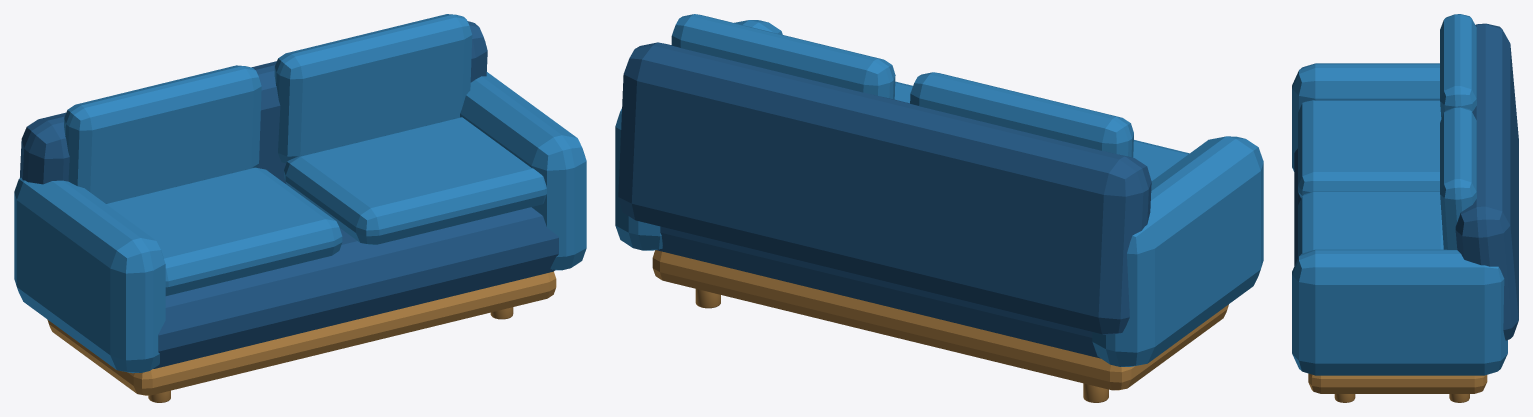
The model's file is timbas-blue-sofa.glb.
The picture shows the model from 3 angles, left to right: view 1: azimuth 30°, elevation 25°; view 2: azimuth 150°, elevation 25°; view 3: azimuth 270°, elevation 25°; orthographic projection. The views are drawn at different scales.
Parts seen in each view (by area): view 1: sofa · Blue accent fabric, sofa · Deep blue fabric, sofa · Satin brass; view 2: sofa · Deep blue fabric, sofa · Blue accent fabric, sofa · Satin brass; view 3: sofa · Blue accent fabric, sofa · Deep blue fabric, sofa · Satin brass.
Boxes of the visible parts, bbox=[...] form: sofa · Blue accent fabric: bbox=[14, 14, 586, 373]; sofa · Deep blue fabric: bbox=[20, 21, 558, 368]; sofa · Satin brass: bbox=[47, 271, 556, 402]; sofa · Deep blue fabric: bbox=[618, 42, 1151, 358]; sofa · Blue accent fabric: bbox=[615, 14, 1263, 366]; sofa · Satin brass: bbox=[652, 250, 1228, 402]; sofa · Blue accent fabric: bbox=[1292, 14, 1507, 375]; sofa · Deep blue fabric: bbox=[1294, 23, 1518, 340]; sofa · Satin brass: bbox=[1308, 373, 1487, 402].
Size of the model in its own units: 2.16 by 1.09 by 0.9879.
